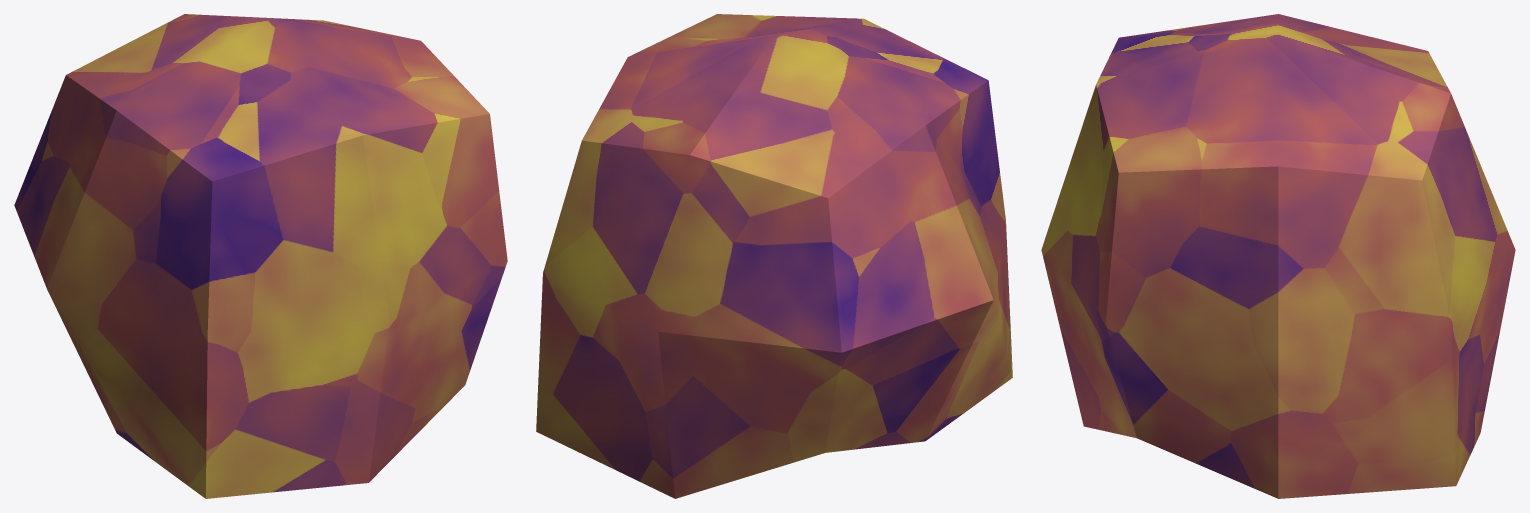
The model's file is YellowGem.fbx.
The picture shows the model from 3 angles, left to right: view 1: azimuth 30°, elevation 25°; view 2: azimuth 150°, elevation 25°; view 3: azimuth 270°, elevation 25°; orthographic projection. The views are drawn at different scales.
Parts seen in each view (by area): view 1: Cube.006; view 2: Cube.006; view 3: Cube.006.
Part boxes in pixels (x1,y1,x2,y2): Cube.006: (14, 14, 507, 498); Cube.006: (536, 14, 1012, 498); Cube.006: (1041, 14, 1515, 498).
Size of the model in its own units: 0.1624 by 0.1555 by 0.1555.
1 material, 1 textured.
